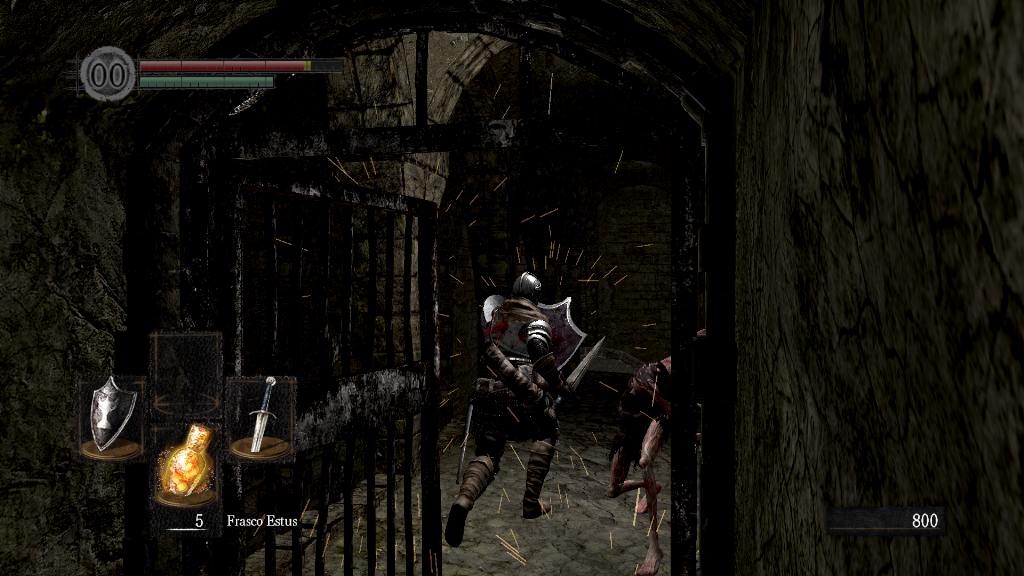health: (138, 58, 343, 71)
hollow: (608, 354, 675, 576)
humanity: (80, 45, 136, 102)
player: (445, 272, 606, 552)
souls: (825, 506, 945, 536)
stamina: (138, 74, 274, 88)
